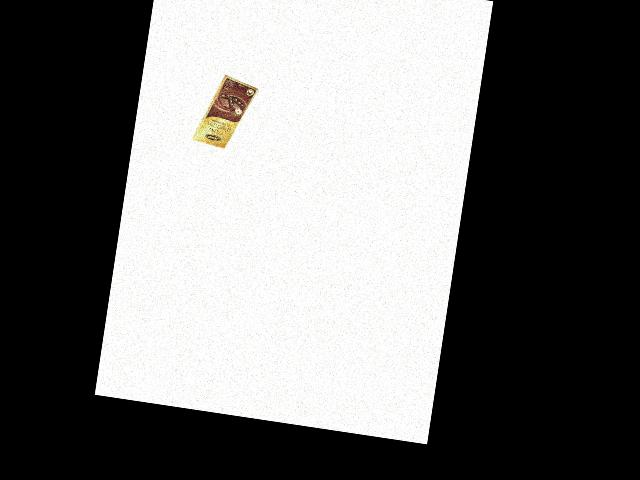chocolate: (189, 64, 260, 152)
